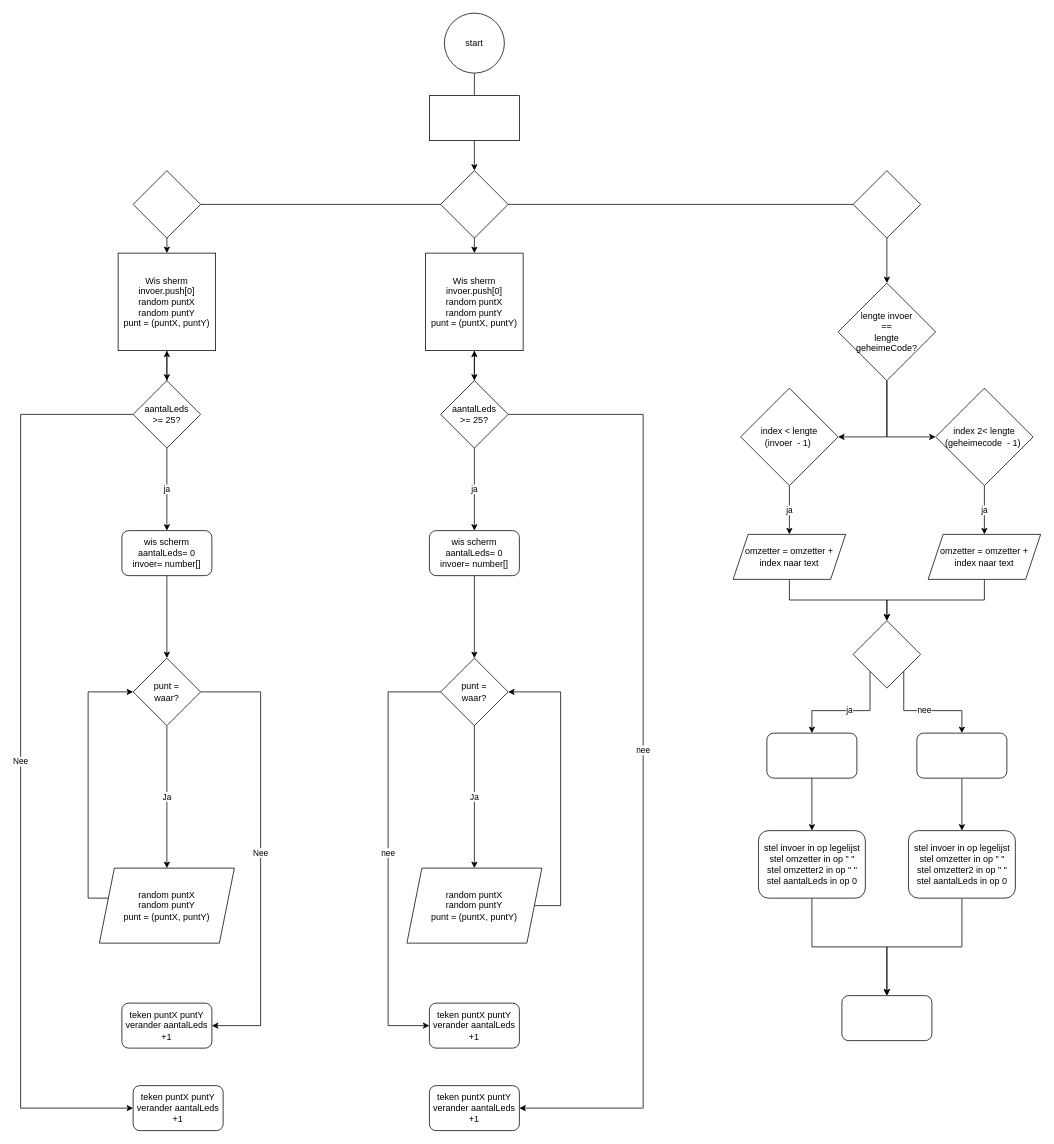
This 1054x1144 diagram has some shape labels left out. The box of each missing label's shape, as (x1, y1, x2, y2) in pixels:
als omzetter = omzetter2: (852, 620, 921, 688)
Array geheimeCode [0, 1, 0, 0] Array invoer []: (429, 95, 519, 141)
Knop A + B ingedrukt?: (852, 170, 921, 238)
Knop A ingedrukt?: (132, 170, 201, 238)
Knop B ingedrukt?: (440, 170, 508, 238)
pauzeer 2 sec en wis scherm: (841, 995, 932, 1041)
toon kruis en start melodie: (916, 732, 1007, 778)
toon smiley met bril en start melodie: (766, 732, 857, 778)
